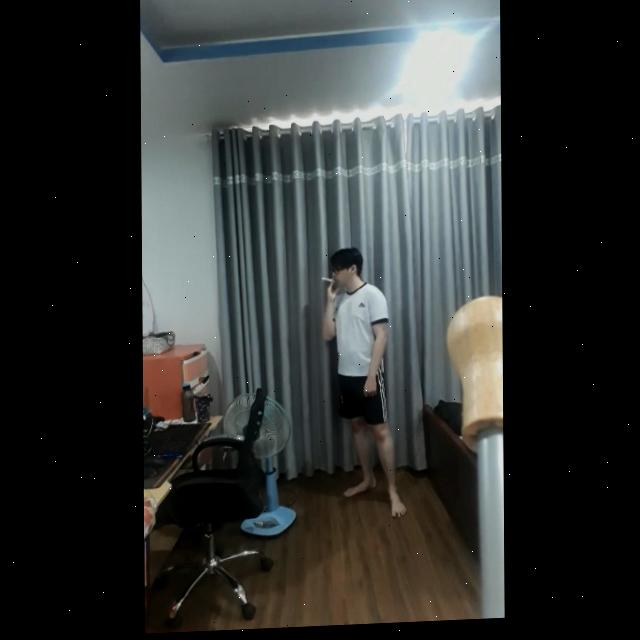cigarette: (322, 280, 336, 287)
